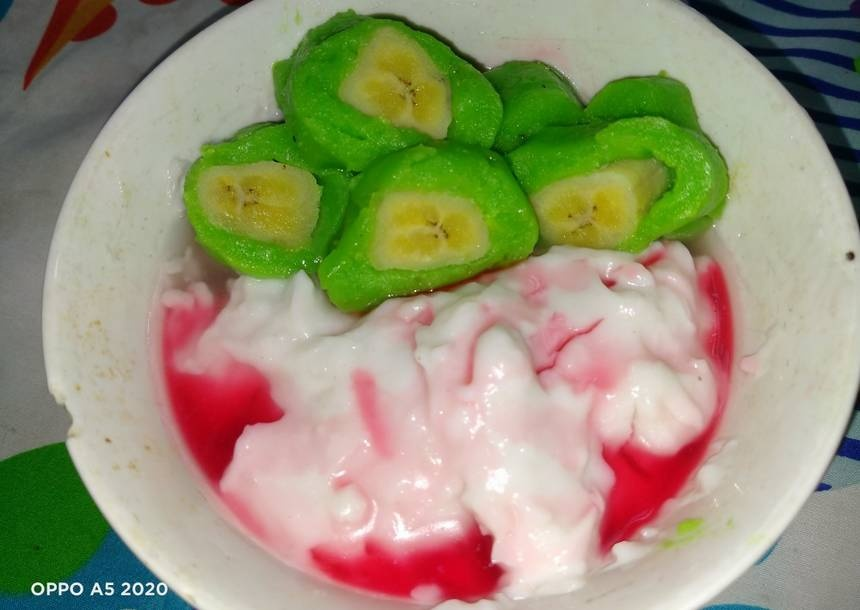es_pisang_ijo: (169, 22, 733, 587)
